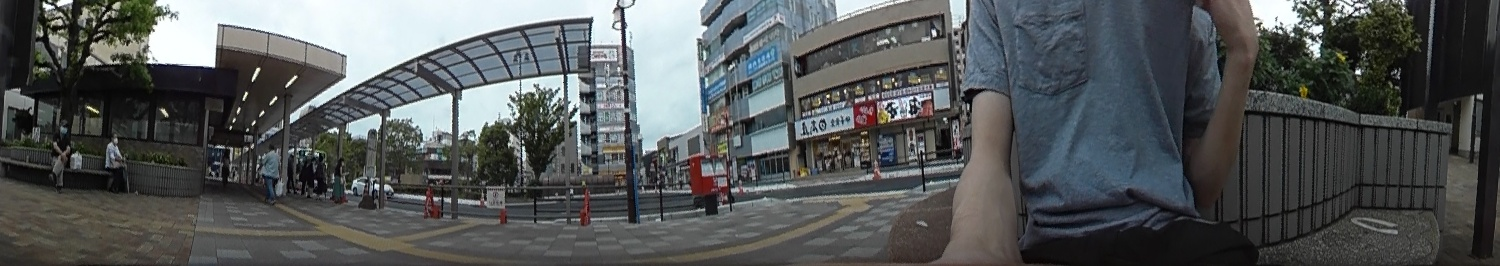difficult_person: (332, 156, 345, 203), (317, 154, 326, 194)
person: (46, 120, 75, 195), (108, 132, 130, 193), (258, 147, 282, 202)
